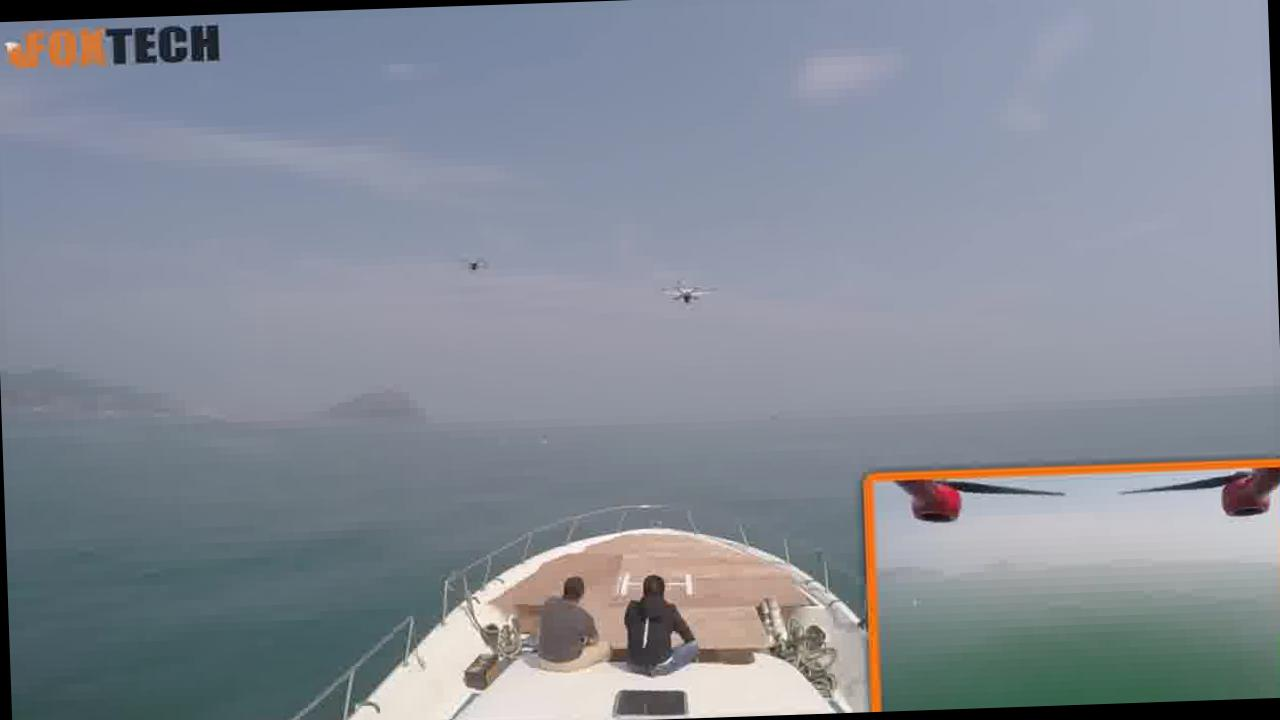drone: (641, 262, 716, 316)
